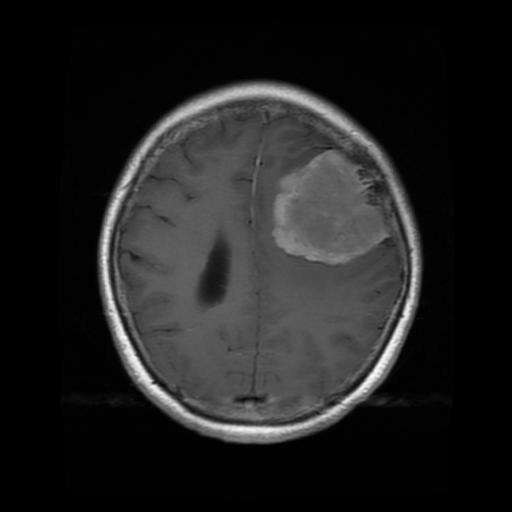Tumour-Meningioma: (254, 141, 403, 285)
